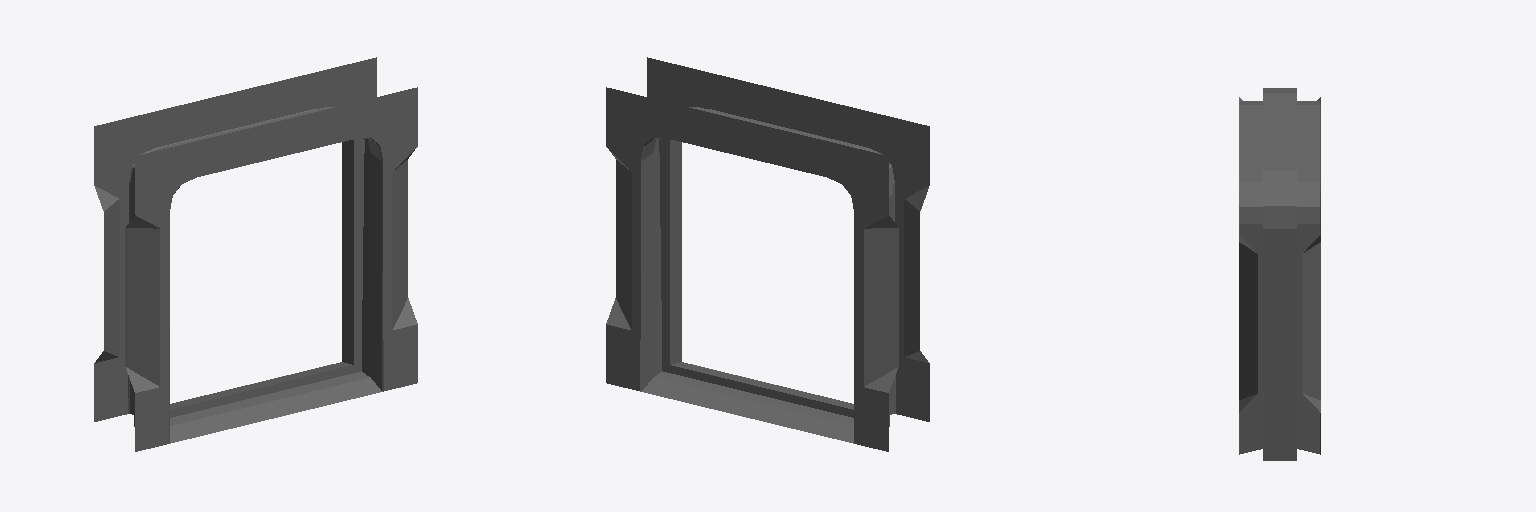
The model's file is Door02_LP.obj.
3 renders of one model, left to right at view 1: azimuth 30°, elevation 25°; view 2: azimuth 150°, elevation 25°; view 3: azimuth 270°, elevation 25°, orthographic.
Parts seen in each view (by area): view 1: Plane001; view 2: Plane001; view 3: Plane001.
Part boxes in pixels (bbox=[...]): Plane001: bbox=[94, 57, 417, 451]; Plane001: bbox=[606, 57, 929, 451]; Plane001: bbox=[1239, 88, 1320, 460].
Bounding box in the file's own units: 512 × 516 × 128.